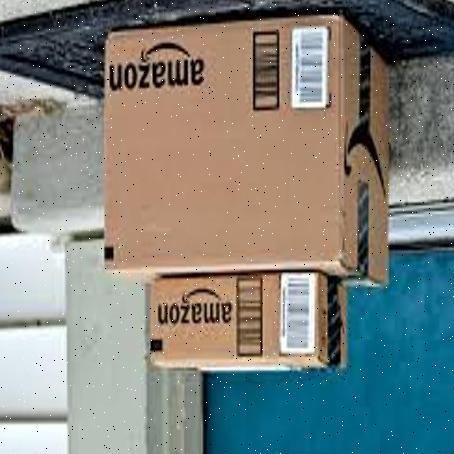Amazon: (99, 11, 390, 286), (146, 274, 350, 374)
